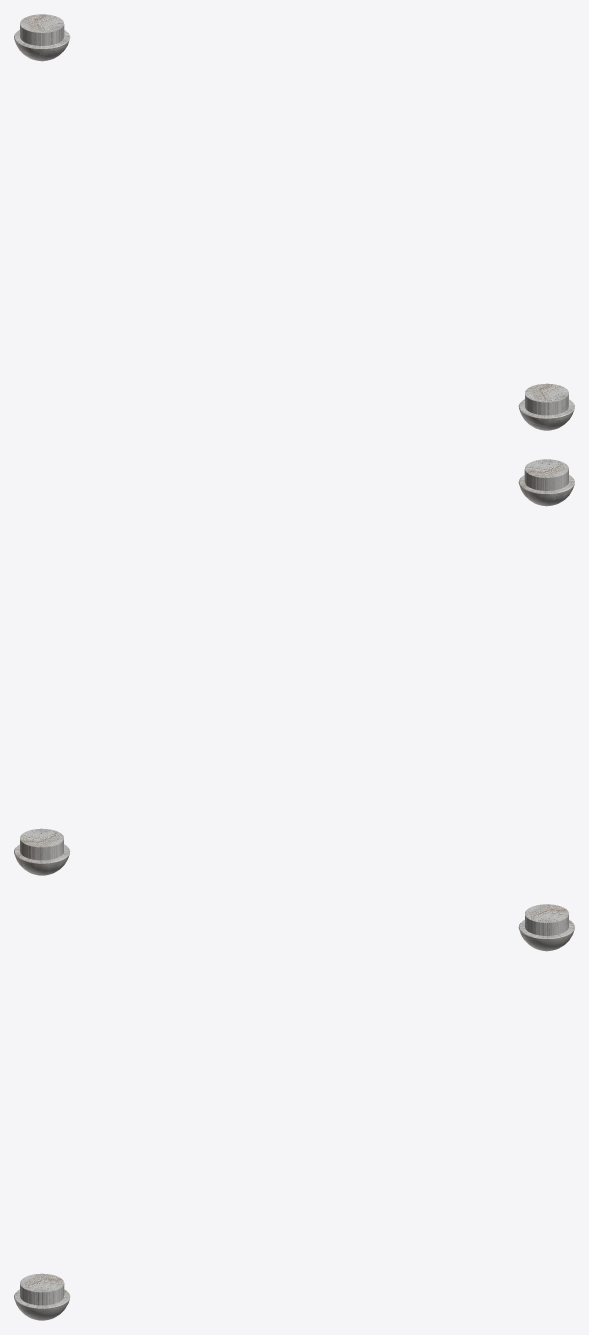
3 views of the same model, one above another, from view 1: azimuth 30°, elevation 25°; view 2: azimuth 150°, elevation 25°; view 3: azimuth 330°, elevation 25° (orthographic).
Bounding box in the file's own units: 0.0787 × 0.0538 × 1.49.
Materials: 1 (1 with a texture image).
